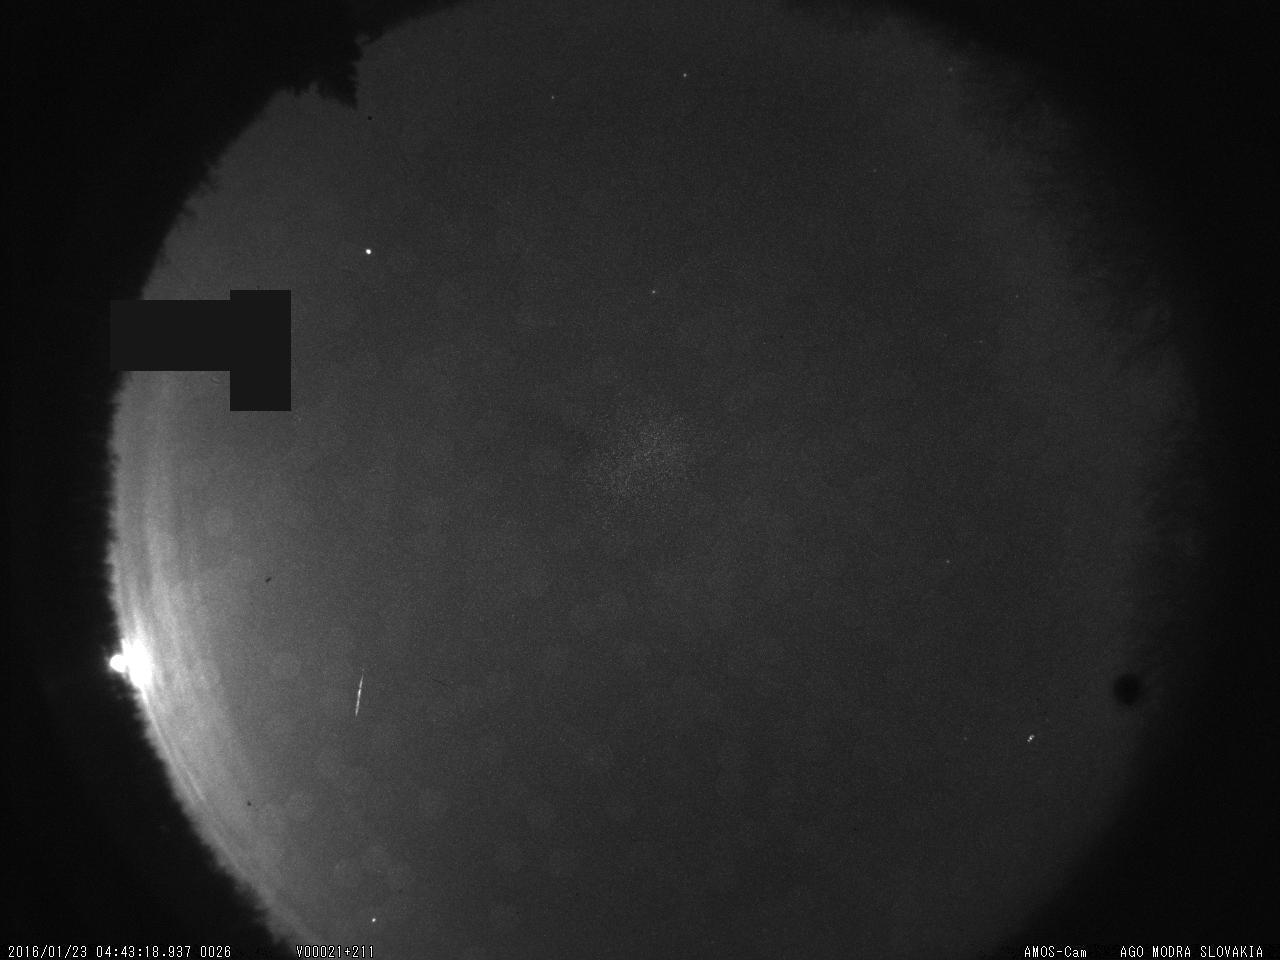Meteor: (346, 665, 372, 724)
